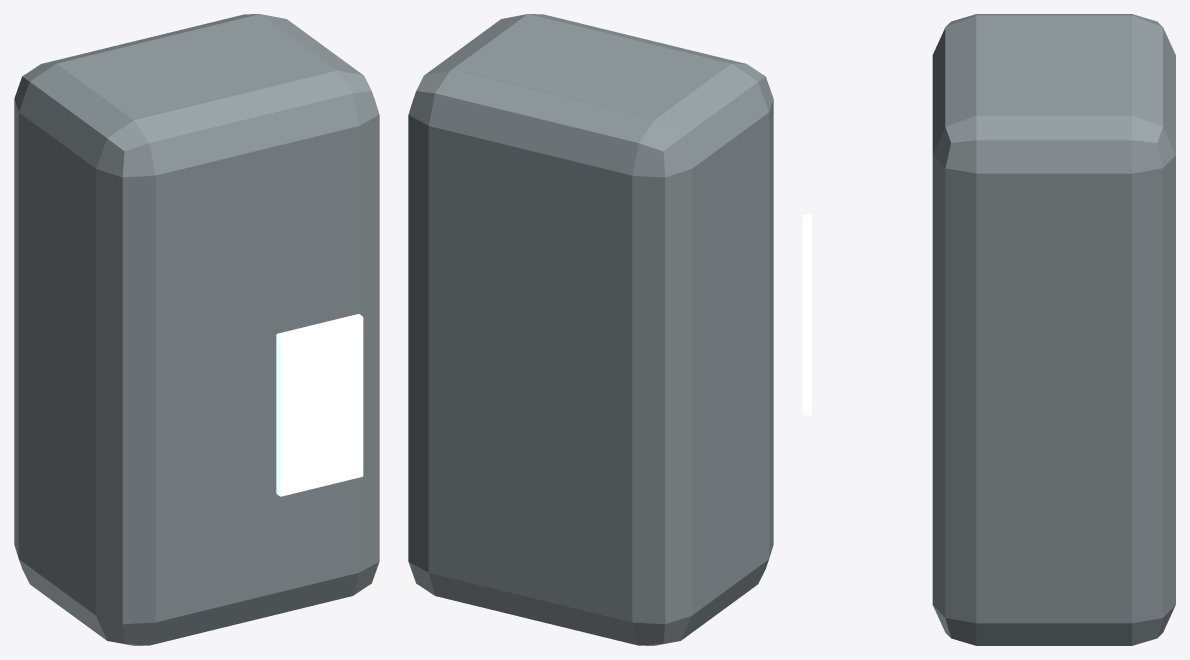
File: landmark_hod_oathstone_v1.glb
3 views of the same model, side by side, from view 1: azimuth 30°, elevation 25°; view 2: azimuth 150°, elevation 25°; view 3: azimuth 270°, elevation 25° (orthographic).
Visible parts, largest first — view 1: Oathstone, OathRune; view 2: Oathstone; view 3: Oathstone, OathRune.
Part boxes in pixels (x1=…): Oathstone: x1=14, y1=14, x2=379, y2=645; OathRune: x1=276, y1=314, x2=363, y2=496; Oathstone: x1=408, y1=14, x2=773, y2=645; Oathstone: x1=932, y1=14, x2=1175, y2=645; OathRune: x1=802, y1=214, x2=811, y2=415.
Size of the model in its own units: 0.4 by 0.72 by 0.461.
